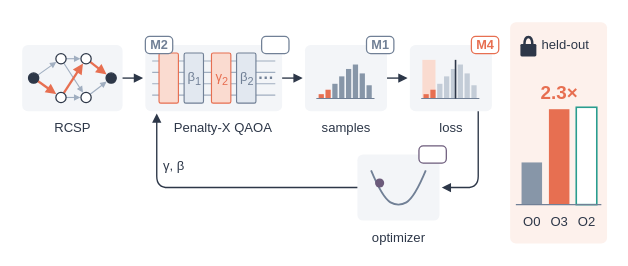
Some shapes in this 628 by 266 pixel diagram are drawn without their labels. Here are the shapes that lost their labels. From the top down, the centre of each, then its label:
pixel 274 44: M5
pixel 168 77: γ 1
pixel 432 154: M3
